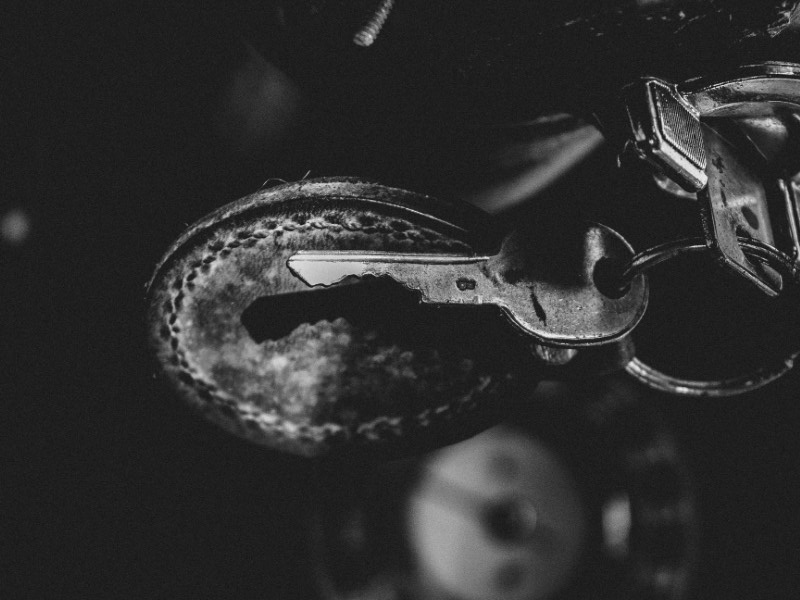key: (278, 208, 649, 352)
